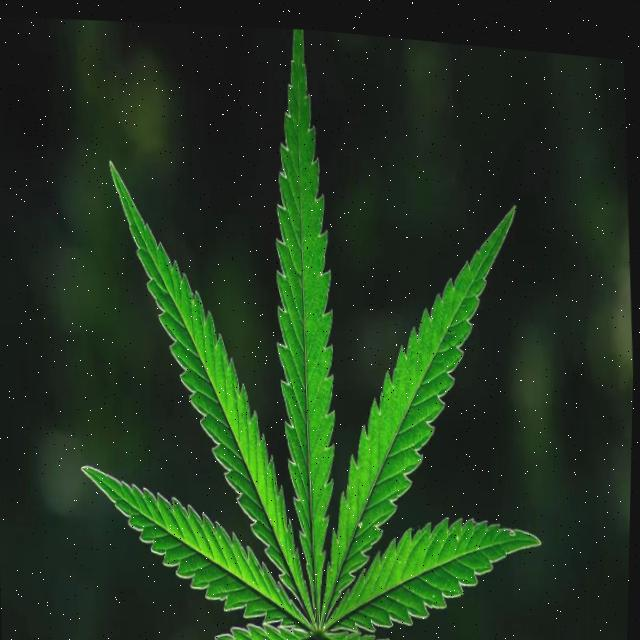cannabis: (81, 29, 541, 640)
